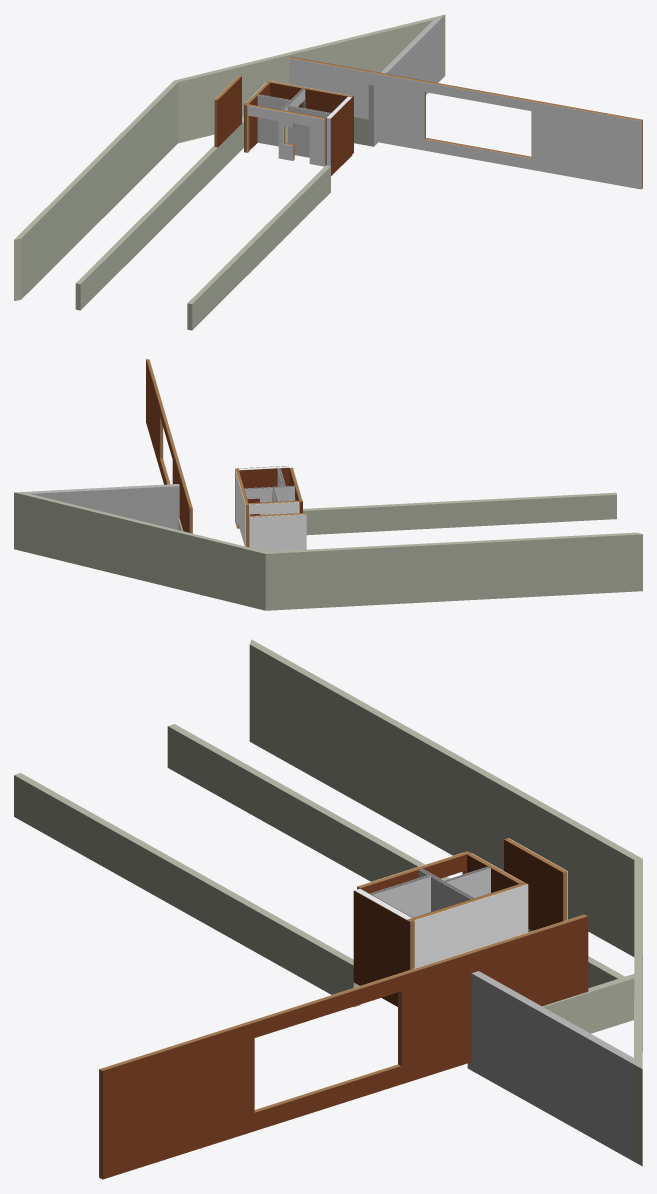
Rendered from rac_basic_sample_project_Level_1_IfcWallStandardCase.dae.
3 views of the same model, one above another, from view 1: azimuth 30°, elevation 25°; view 2: azimuth 150°, elevation 25°; view 3: azimuth 270°, elevation 25° (orthographic). The views are drawn at different scales.
Visible parts, largest first — view 1: 38NblWsDL1I8DljLvn67Sd, 0NWseyvsH7_gBW225aGtwW, 0NWseyvsH7_gBW225aGtx$, 1RUi90wQT3ihQ$96bMNGiu, 1RUi90wQT3ihQ$96bMNGrh, 0NWseyvsH7_gBW225aGtyM, 3lLx0gNe59vvExhby0Bff1, 2hD3j_DmLBXxhCCy1gOWRm, 1oPutv5ADAxgWEbAZbN6Wv, 3rPRxvVIT7WRZKOFIc3wXL, 2pfAHb2EL46hq_sMVbImEh, 1$p8tACJ938vr1_lKOJJ0t (+1 smaller); view 2: 0NWseyvsH7_gBW225aGtwW, 0NWseyvsH7_gBW225aGtx$, 1RUi90wQT3ihQ$96bMNGrh, 0NWseyvsH7_gBW225aGtyM, 38NblWsDL1I8DljLvn67Sd, 1oPutv5ADAxgWEbAZbN6Wv, 2hD3j_DmLBXxhCCy1gOWRm, 3rPRxvVIT7WRZKOFIc3wXL, 1PDnLIM013wvkZO9Lb4$wc, 1PDnLIM013wvkZO9Lb4$GV; view 3: 38NblWsDL1I8DljLvn67Sd, 0NWseyvsH7_gBW225aGtwW, 0NWseyvsH7_gBW225aGtyM, 1RUi90wQT3ihQ$96bMNGrh, 1RUi90wQT3ihQ$96bMNGiu, 3rPRxvVIT7WRZKOFIc3wXL, 2hD3j_DmLBXxhCCy1gOWRm, 1oPutv5ADAxgWEbAZbN6Wv, 1RUi90wQT3ihQ$96bMNGvH, 0NWseyvsH7_gBW225aGtx$, 1$p8tACJ938vr1_lKOJJ0t, 3lLx0gNe59vvExhby0Bff1 (+3 smaller).
Part boxes in pixels (x1=…): 38NblWsDL1I8DljLvn67Sd: x1=289, y1=56, x2=642, y2=189; 0NWseyvsH7_gBW225aGtwW: x1=14, y1=78, x2=181, y2=300; 0NWseyvsH7_gBW225aGtx$: x1=178, y1=14, x2=445, y2=143; 1RUi90wQT3ihQ$96bMNGiu: x1=75, y1=116, x2=243, y2=310; 1RUi90wQT3ihQ$96bMNGrh: x1=187, y1=165, x2=330, y2=330; 0NWseyvsH7_gBW225aGtyM: x1=368, y1=18, x2=441, y2=146; 3lLx0gNe59vvExhby0Bff1: x1=244, y1=103, x2=325, y2=166; 2hD3j_DmLBXxhCCy1gOWRm: x1=326, y1=96, x2=352, y2=175; 1oPutv5ADAxgWEbAZbN6Wv: x1=214, y1=75, x2=241, y2=147; 3rPRxvVIT7WRZKOFIc3wXL: x1=267, y1=80, x2=353, y2=153; 2pfAHb2EL46hq_sMVbImEh: x1=257, y1=94, x2=290, y2=146; 1$p8tACJ938vr1_lKOJJ0t: x1=287, y1=105, x2=330, y2=157; 0NWseyvsH7_gBW225aGtwW: x1=258, y1=532, x2=642, y2=610; 0NWseyvsH7_gBW225aGtx$: x1=14, y1=492, x2=265, y2=608; 1RUi90wQT3ihQ$96bMNGrh: x1=303, y1=492, x2=616, y2=535; 0NWseyvsH7_gBW225aGtyM: x1=23, y1=484, x2=179, y2=529; 38NblWsDL1I8DljLvn67Sd: x1=146, y1=359, x2=192, y2=533; 1oPutv5ADAxgWEbAZbN6Wv: x1=249, y1=513, x2=306, y2=551; 2hD3j_DmLBXxhCCy1gOWRm: x1=238, y1=466, x2=289, y2=515; 3rPRxvVIT7WRZKOFIc3wXL: x1=235, y1=468, x2=248, y2=547; 1PDnLIM013wvkZO9Lb4$wc: x1=248, y1=500, x2=299, y2=546; 1PDnLIM013wvkZO9Lb4$GV: x1=244, y1=485, x2=294, y2=515; 38NblWsDL1I8DljLvn67Sd: x1=99, y1=914, x2=588, y2=1179; 0NWseyvsH7_gBW225aGtwW: x1=249, y1=639, x2=642, y2=956; 0NWseyvsH7_gBW225aGtyM: x1=467, y1=971, x2=633, y2=1161; 1RUi90wQT3ihQ$96bMNGrh: x1=14, y1=773, x2=360, y2=1007; 1RUi90wQT3ihQ$96bMNGiu: x1=167, y1=724, x2=624, y2=988; 3rPRxvVIT7WRZKOFIc3wXL: x1=406, y1=882, x2=528, y2=970; 2hD3j_DmLBXxhCCy1gOWRm: x1=353, y1=888, x2=412, y2=1006; 1oPutv5ADAxgWEbAZbN6Wv: x1=504, y1=838, x2=567, y2=930; 1RUi90wQT3ihQ$96bMNGvH: x1=542, y1=974, x2=634, y2=1033; 0NWseyvsH7_gBW225aGtx$: x1=634, y1=860, x2=642, y2=1166; 1$p8tACJ938vr1_lKOJJ0t: x1=370, y1=875, x2=430, y2=917; 3lLx0gNe59vvExhby0Bff1: x1=357, y1=851, x2=470, y2=893.
Bounding box in the file's own units: 34.82 × 20.51 × 4.2.
